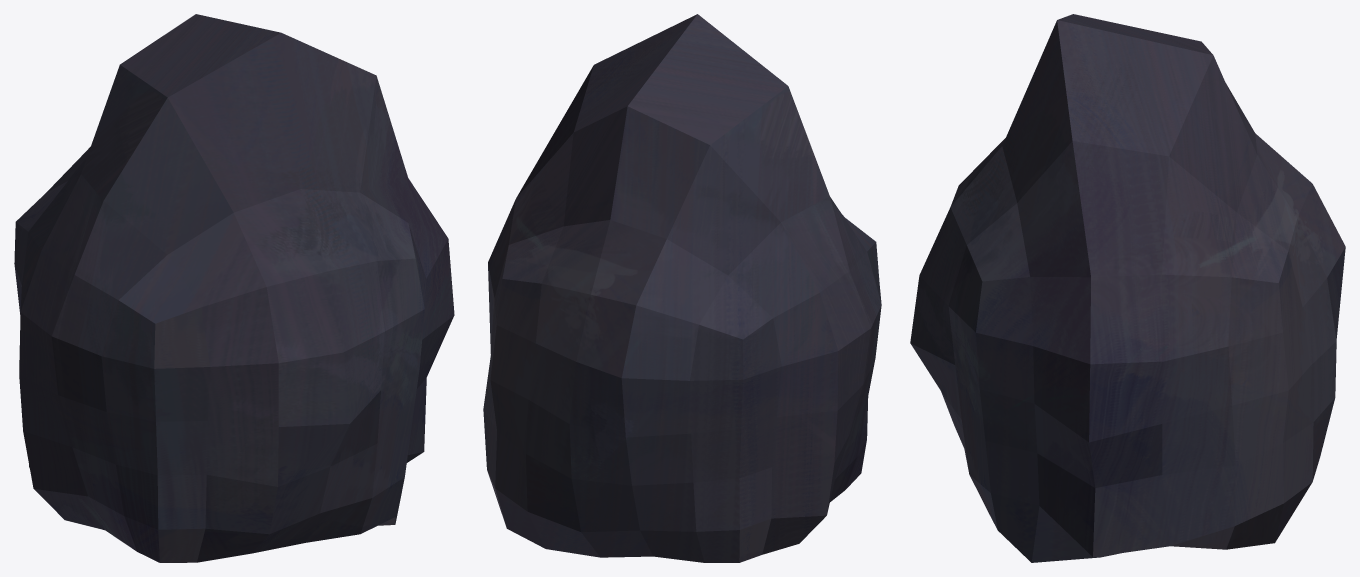
File: Rock07.fbx
The picture shows the model from 3 angles, left to right: view 1: azimuth 30°, elevation 25°; view 2: azimuth 150°, elevation 25°; view 3: azimuth 270°, elevation 25°; orthographic projection. The views are drawn at different scales.
Visible parts, largest first — view 1: Rock07; view 2: Rock07; view 3: Rock07.
Part boxes in pixels (x1,y1,x2,y2): Rock07: [14, 14, 454, 562]; Rock07: [483, 14, 881, 562]; Rock07: [910, 14, 1345, 562].
Size of the model in its own units: 1.09 by 1.33 by 1.06.
Materials: 1 (1 with a texture image).
